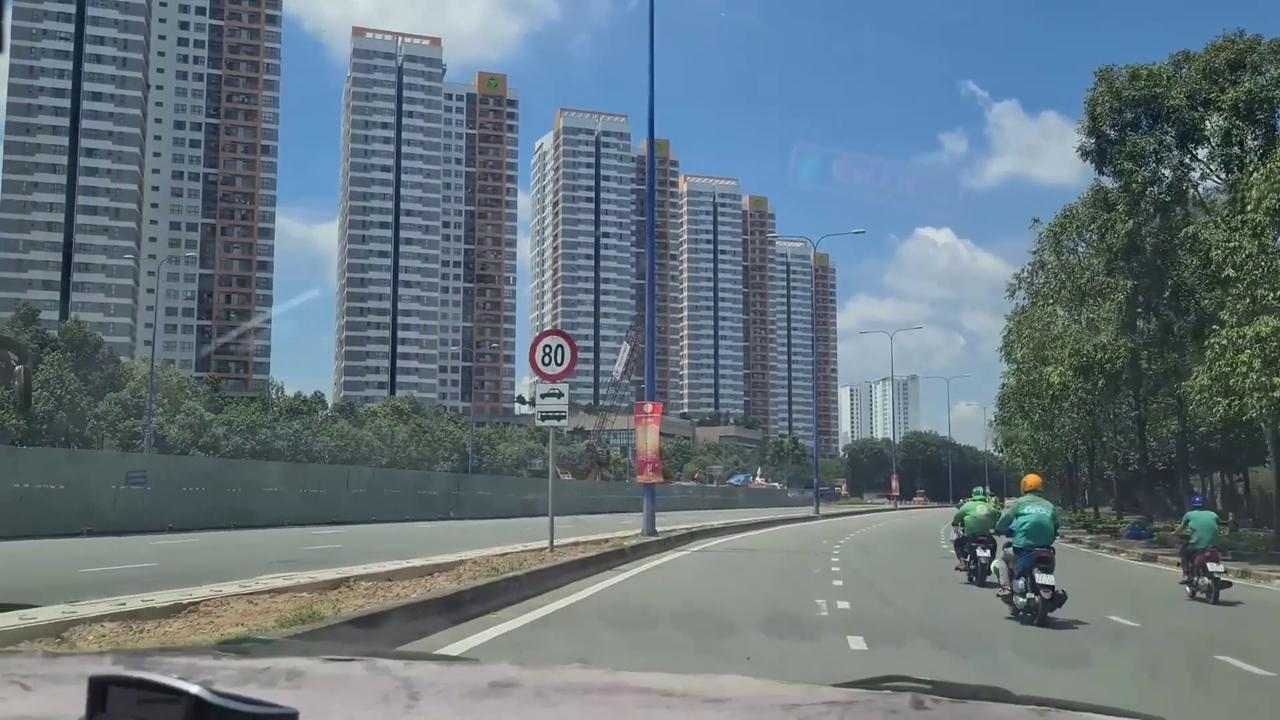Biển phụ: (534, 382, 570, 427)
Giới hạn tốc độ 80Km/h: (527, 327, 579, 383)
